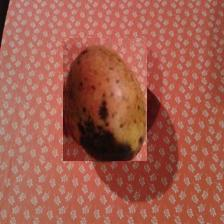Mango Semirotten: (63, 38, 147, 161)
